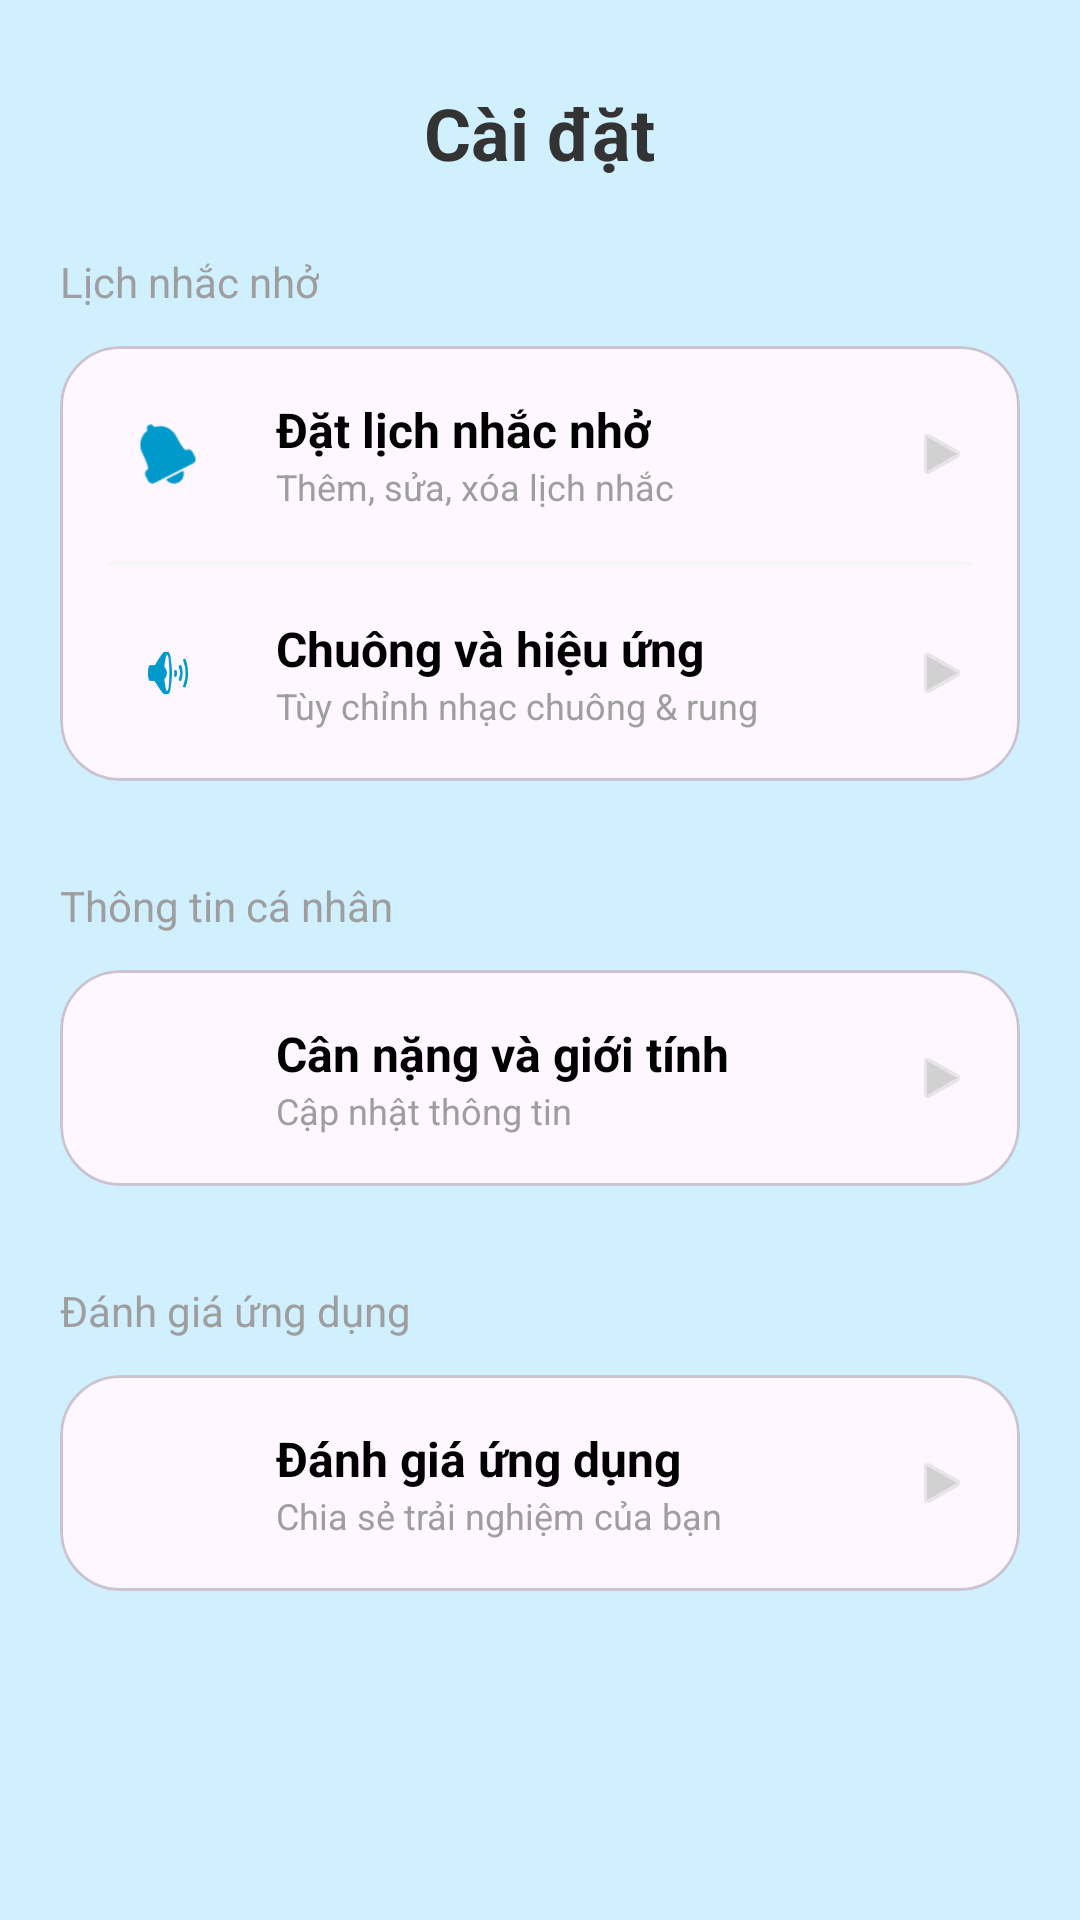

Named icons in this screenshot (1080w x 1920h) and their bounding boxes, box=[x1, y1, x2, y2]:
play: box=[927, 437, 957, 471], box=[927, 656, 957, 690], box=[927, 1061, 957, 1095], box=[927, 1466, 957, 1500]
popup reminder: box=[140, 424, 196, 484]
